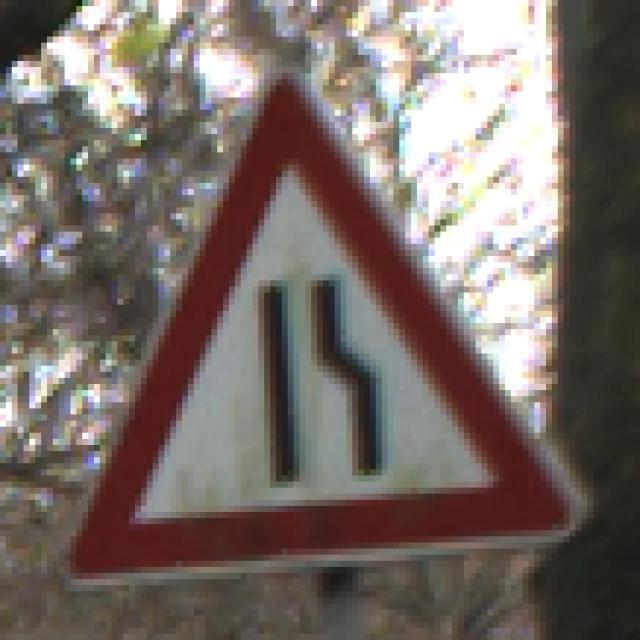narrow road ahead: (60, 73, 577, 576)
